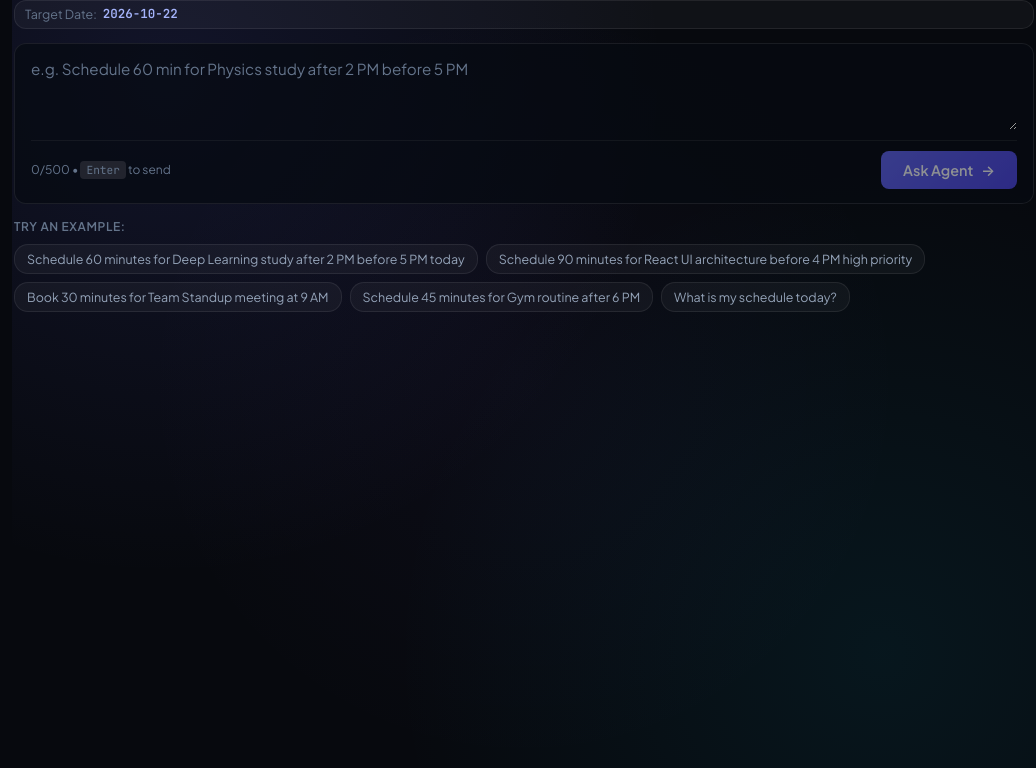
it: PromptInterface Component › disables submit button when prompt is under 3 characters
Expected: the button "Ask Agent →" is disabled, top-left (881, 151), bottom-right (1017, 189)
Replace the text in the text box named "natural language scheduling prompt" with "hi" at (524, 94), box top-left (31, 58), bottom-right (1017, 130)
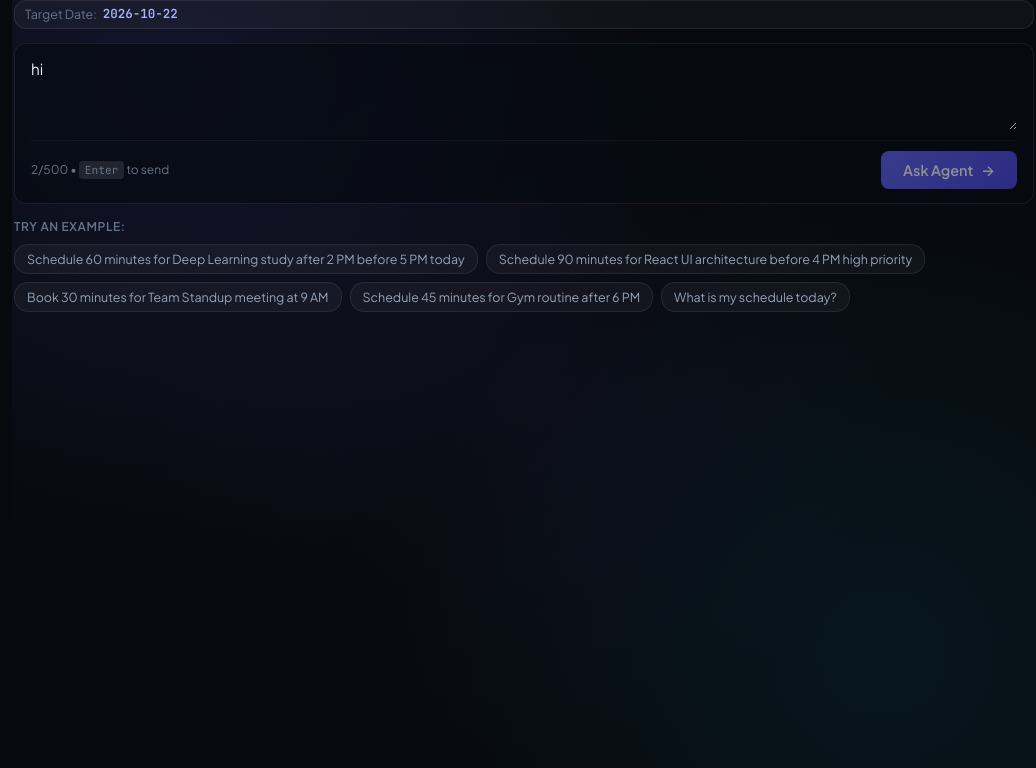
Expected: the button "Ask Agent →" is disabled, top-left (881, 151), bottom-right (1017, 189)
Replace the text in the text box named "natural language scheduling prompt" with "Schedule 60 min focus" at (524, 94), box top-left (31, 58), bottom-right (1017, 130)
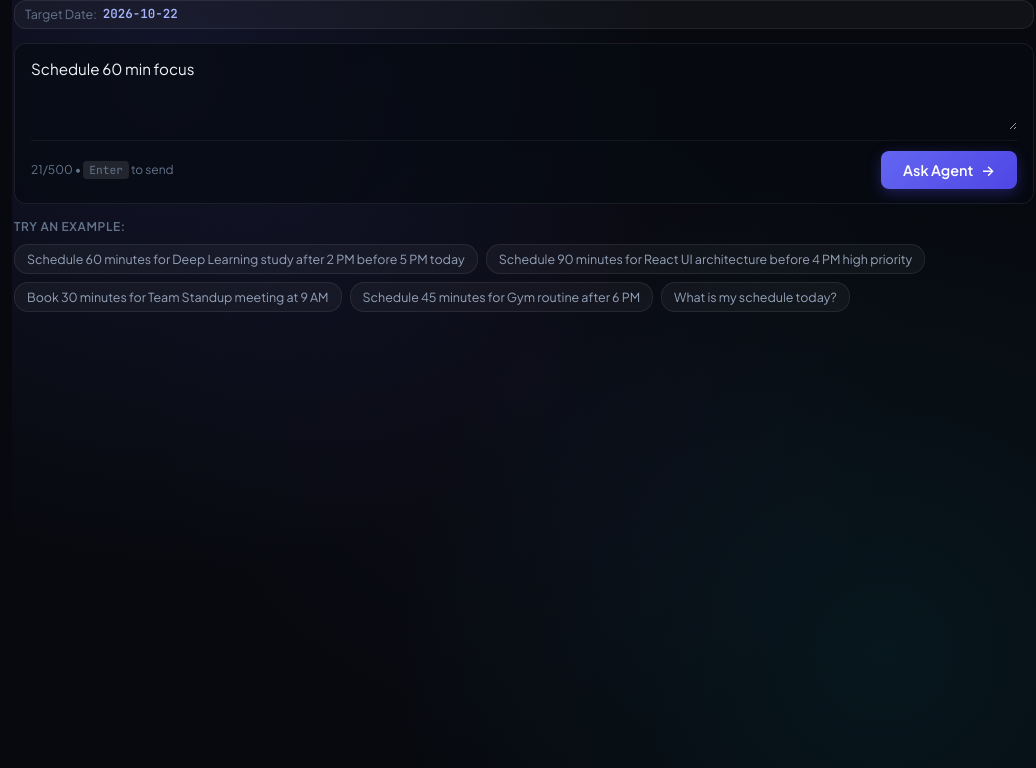
Expected: the button "Ask Agent →" is enabled, top-left (881, 151), bottom-right (1017, 189)
